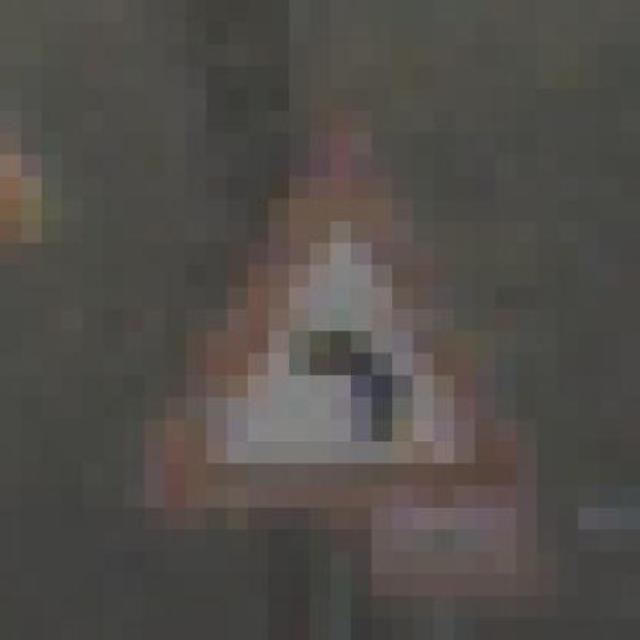Dangerous Left Curve Ahead: (82, 110, 558, 552)
